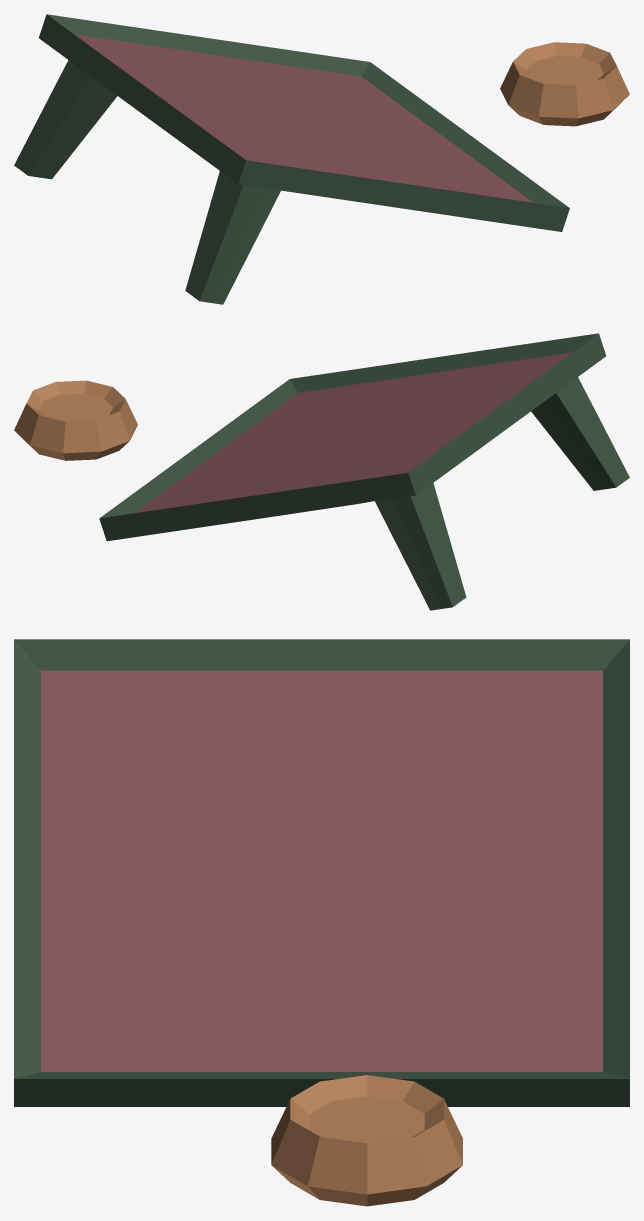
Rendered from Tavolo_rotto.fbx.
3 renders of one model, top to bottom at view 1: azimuth 30°, elevation 25°; view 2: azimuth 150°, elevation 25°; view 3: azimuth 270°, elevation 25°, orthographic. The views are drawn at different scales.
Parts seen in each view (by area): view 1: Cube, Cube.002; view 2: Cube, Cube.002; view 3: Cube, Cube.002.
Part boxes in pixels (x1=…): Cube: x1=14, y1=14, x2=569, y2=304; Cube.002: x1=500, y1=42, x2=629, y2=126; Cube: x1=99, y1=333, x2=629, y2=610; Cube.002: x1=14, y1=380, x2=137, y2=460; Cube: x1=14, y1=639, x2=629, y2=1106; Cube.002: x1=271, y1=1075, x2=462, y2=1206.
Size of the model in its own units: 306 by 82.3 by 200.
